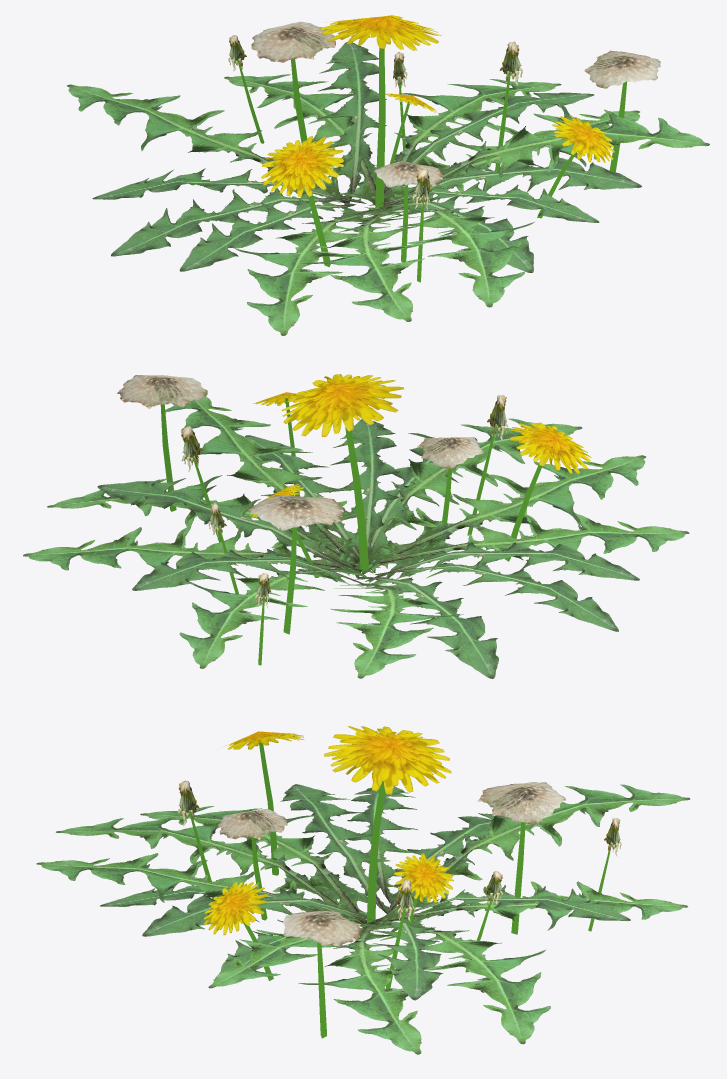
File: m_flower02.fbx
3 views of the same model, one above another, from view 1: azimuth 30°, elevation 25°; view 2: azimuth 150°, elevation 25°; view 3: azimuth 270°, elevation 25° (orthographic). The views are drawn at different scales.
Parts seen in each view (by area): view 1: mesh_flower02; view 2: mesh_flower02; view 3: mesh_flower02.
Boxes of the visible parts, box(x1,y1,x2,y2) form: mesh_flower02: box(67, 15, 709, 335); mesh_flower02: box(23, 374, 689, 678); mesh_flower02: box(36, 726, 690, 1054).
Size of the model in its own units: 0.4999 by 0.1629 by 0.5234.
Materials: 1 (1 with a texture image).
